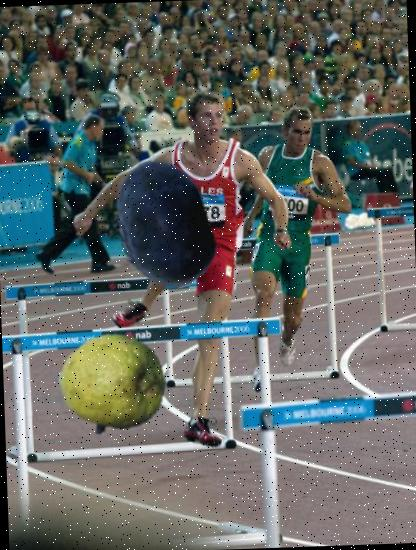Blueberry: (95, 158, 230, 292)
Limes: (57, 329, 168, 440)
